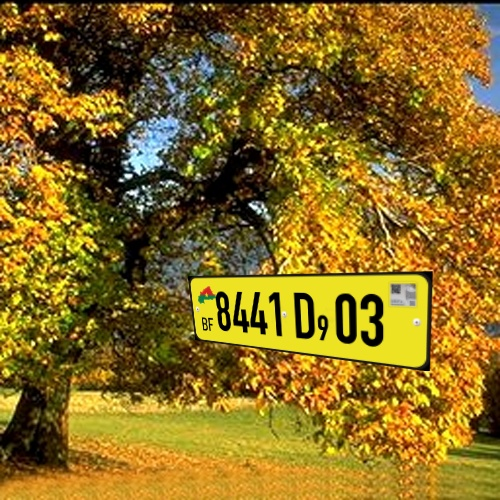plate: (178, 262, 448, 386)
